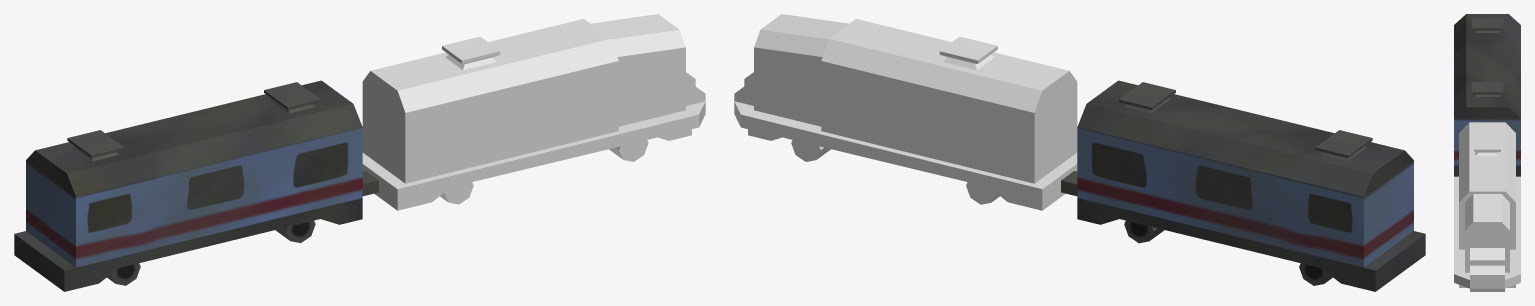
File: Train.fbx
3 views of the same model, side by side, from view 1: azimuth 30°, elevation 25°; view 2: azimuth 150°, elevation 25°; view 3: azimuth 270°, elevation 25° (orthographic). The views are drawn at different scales.
Parts seen in each view (by area): view 1: Train1, Train2; view 2: Train1, Train2; view 3: Train2, Train1.
Part boxes in pixels (left/top/right/bottom): Train1: left=14, top=80, right=378, bottom=291; Train2: left=362, top=14, right=705, bottom=210; Train1: left=1061, top=80, right=1425, bottom=291; Train2: left=734, top=14, right=1077, bottom=210; Train2: left=1454, top=122, right=1520, bottom=291; Train1: left=1454, top=14, right=1520, bottom=176.
Bounding box in the file's own units: 196 × 38.48 × 26.08.
